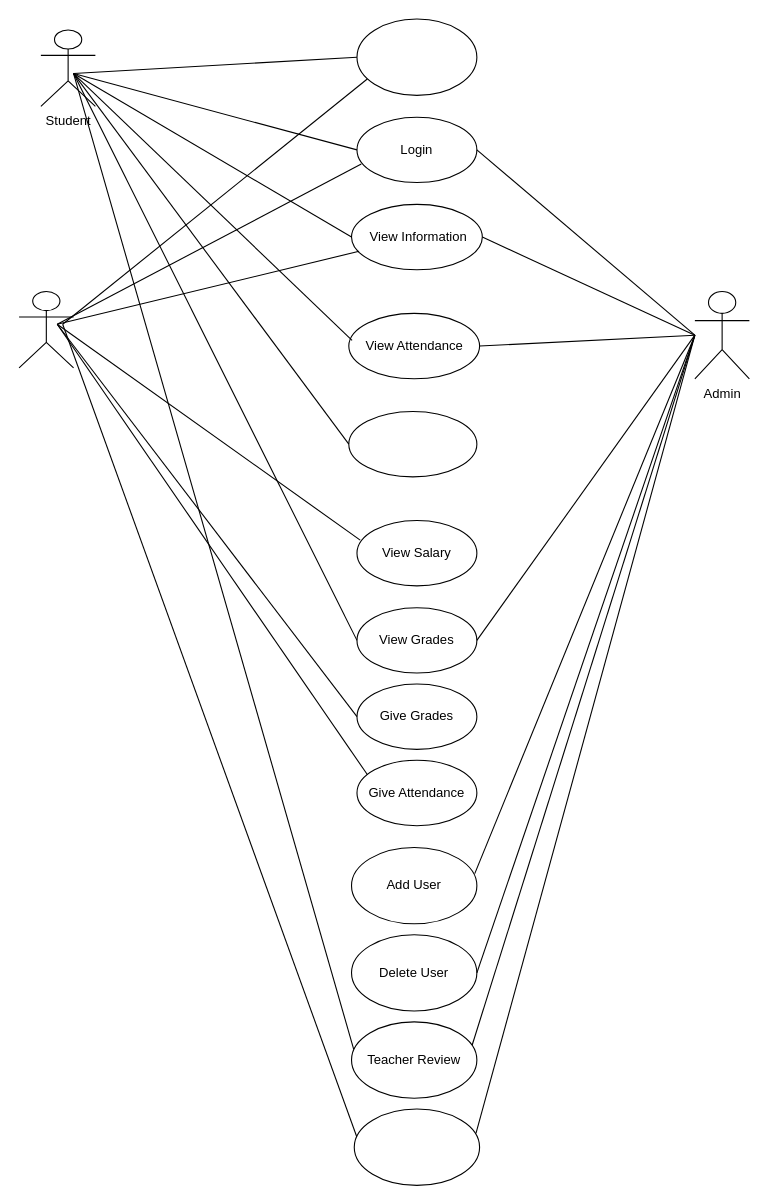
Some shapes in this 768 by 1204 pixel diagram are drawn without their labels. The centre of each missing label's shape, as x and y in pixels:
Log Out: pixel 416 1146
Registration: pixel 416 56
Teacher: pixel 46 329
View Fees: pixel 412 443
